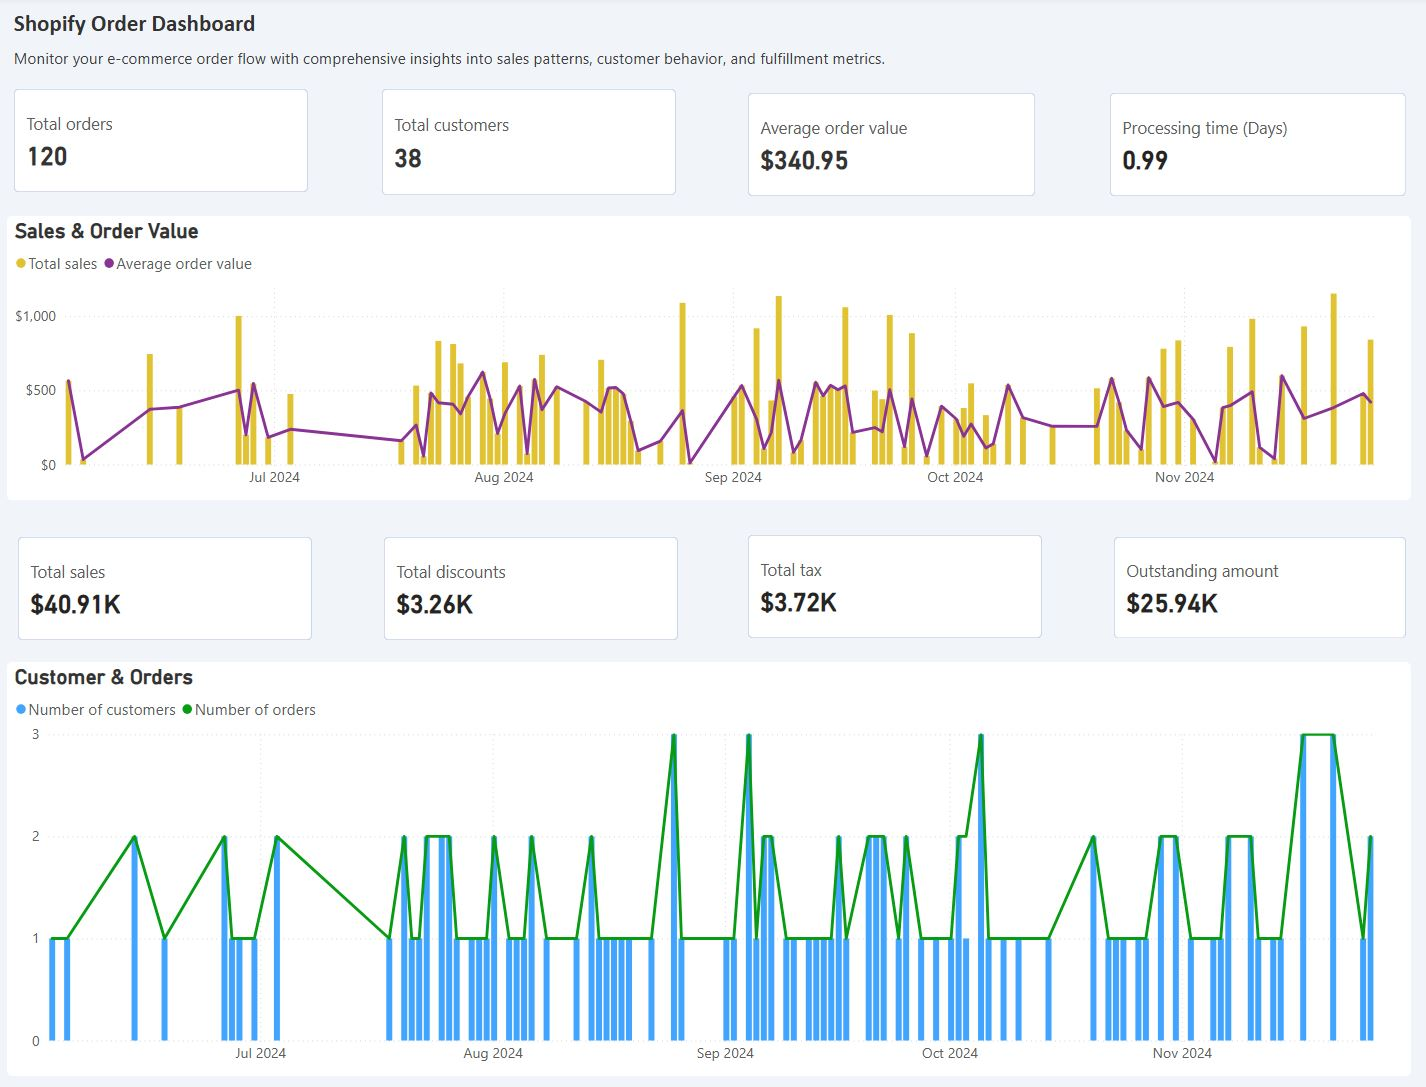

This screenshot's page, from the dashboard's own definition file:
{"tool":"powerbi","page":{"name":"Overview","canvas":[1500,1150],"ordinal":0},"visuals":[{"type":"cardVisual","fields":{"Data":["Key Measures.Total Orders"]},"box":[12.5,93.9,317.2,119],"z":0},{"type":"cardVisual","fields":{"Data":["Key Measures.Total Customers"]},"box":[395.9,93.9,317.2,121.1],"z":1000},{"type":"cardVisual","fields":{"Data":["Key Measures.Average Order Value"]},"box":[779.2,98.1,311,119],"z":2000},{"type":"lineStackedColumnComboChart","title":"Sales & Order Value","fields":{"Y":["Key Measures.Total Sales"],"Y2":["Key Measures.Average Order Value"],"Category":["orders.created_at"]},"box":[10.4,231.7,1465.2,296.4],"z":3000},{"type":"textbox","box":[12.5,10.4,294.3,39.7],"z":4000},{"type":"textbox","box":[12.5,50.1,928.8,43.8],"z":5000},{"type":"cardVisual","fields":{"Data":["Key Measures.Processing Time (Days)"]},"box":[1156.3,98.1,319.3,119],"z":6000},{"type":"lineStackedColumnComboChart","title":"Customer & Orders","fields":{"Category":["orders.created_at"],"Y":["Key Measures.Total Customers"],"Y2":["Key Measures.Total Orders"]},"box":[10.4,697.1,1465.2,432],"z":7000},{"type":"cardVisual","fields":{"Data":["Key Measures.Total Sales"]},"box":[16.3,562.3,317,118],"z":8000},{"type":"cardVisual","fields":{"Data":["Key Measures.Total Tax"]},"box":[779.1,559.4,317,118],"z":9000},{"type":"cardVisual","fields":{"Data":["Key Measures.Total Discoutns"]},"box":[397.7,562.3,317,118],"z":10000},{"type":"cardVisual","fields":{"Data":["Key Measures.Outstanding Amount"]},"box":[1160.4,561.4,315.2,116.9],"z":11000}]}

Visuals, with their boxes in screenshot pixels (x1, y1, x2, y2), scaled from the page's 1500x1150 canvas onto the 1426x1087 screenshot:
cardVisual - Key Measures.Total Orders: (12,89,313,201)
cardVisual - Key Measures.Total Customers: (376,89,678,203)
cardVisual - Key Measures.Average Order Value: (741,93,1036,205)
"Sales & Order Value" lineStackedColumnComboChart: (10,219,1403,499)
textbox: (12,10,292,47)
textbox: (12,47,895,89)
cardVisual - Key Measures.Processing Time (Days): (1099,93,1403,205)
"Customer & Orders" lineStackedColumnComboChart: (10,659,1403,1067)
cardVisual - Key Measures.Total Sales: (15,531,317,643)
cardVisual - Key Measures.Total Tax: (741,529,1042,640)
cardVisual - Key Measures.Total Discoutns: (378,531,679,643)
cardVisual - Key Measures.Outstanding Amount: (1103,531,1403,641)
